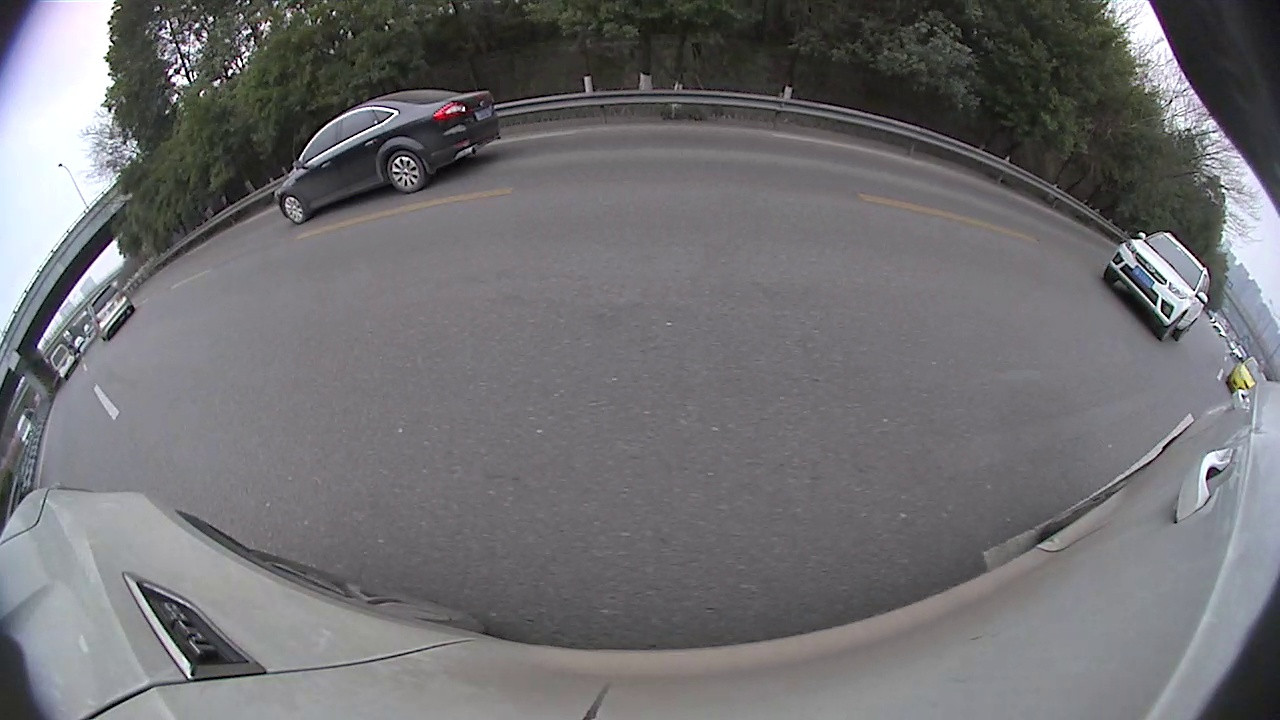car: (1, 155, 433, 485), (580, 99, 842, 271), (984, 206, 1115, 286), (863, 174, 930, 222), (514, 158, 583, 202), (925, 187, 968, 227)
front: (390, 211, 430, 276), (987, 224, 1007, 251)
rear: (109, 330, 220, 453), (1055, 251, 1078, 281), (887, 199, 901, 217)
